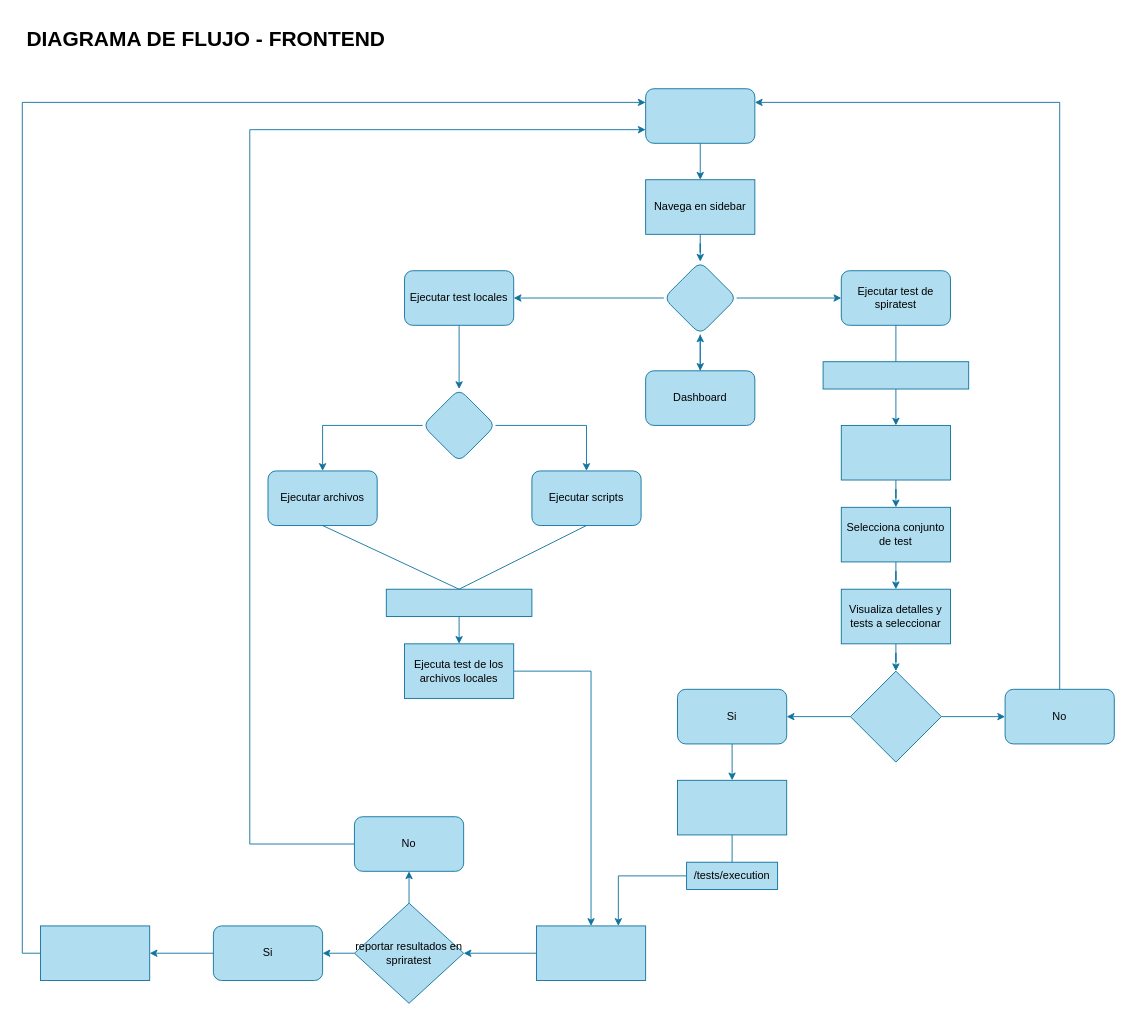
Some shapes in this 1130 by 1019 pixel diagram are drawn without their labels. Each missing label, with the centre of its shape:
"Ejecuta tests seleccionados" goes at [732,807].
"existe test en playwright" goes at [895,716].
"Navega a /test" goes at [458,602].
"Navega a /testset" goes at [895,375].
"Reporta resultados en spiratest" goes at [95,953].
"Resultados test" goes at [591,953].
"Usuario" goes at [700,115].
"Visualiza conjunto de test de la herramienta spiratest" goes at [895,452].
